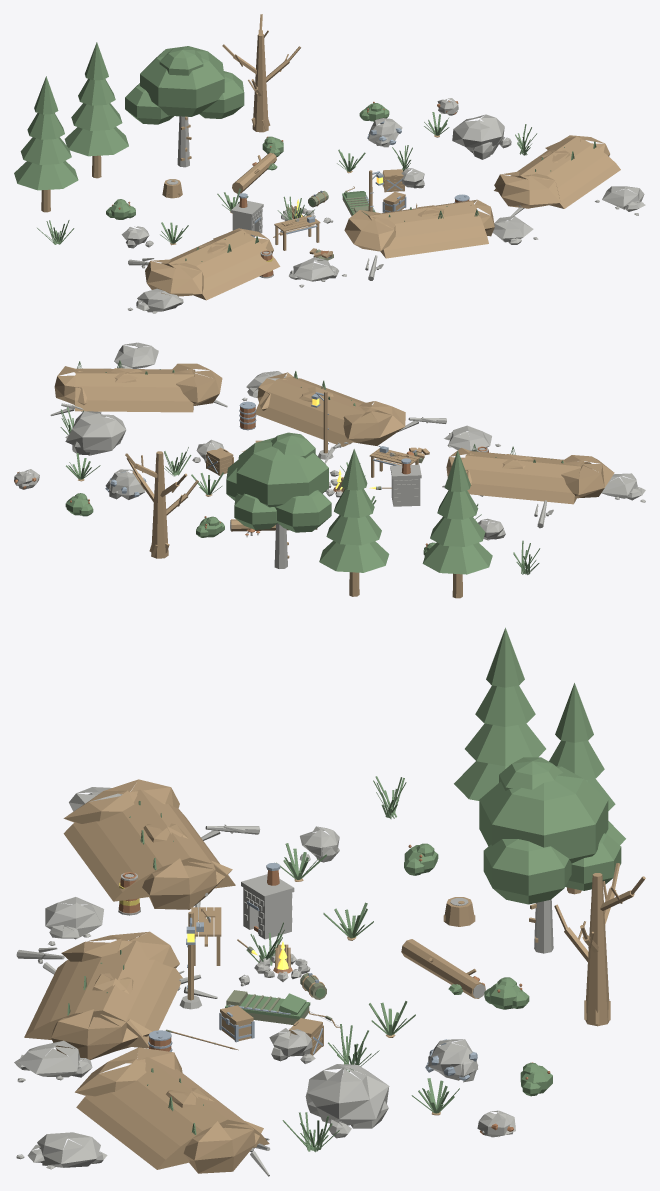
File: shoreline-gathering-run.glb
The picture shows the model from 3 angles, top to bottom: view 1: azimuth 30°, elevation 25°; view 2: azimuth 150°, elevation 25°; view 3: azimuth 270°, elevation 25°; orthographic projection. The views are drawn at different scales.
Visible parts, largest first — view 1: 017-birch-tree/2, 001-sand-dune-bank/0, 000-sand-dune-bank/0, 002-sand-dune-bank/0, 015-pine-tree/1, 016-pine-tree/1, 018-dead-tree/0, 014-boulder/0, 003-shoreline-rock/0, 006-shoreline-rock/0, 005-shoreline-rock/0, 036-stone-furnace/0 (+7 smaller); view 2: 017-birch-tree/2, 002-sand-dune-bank/0, 001-sand-dune-bank/0, 000-sand-dune-bank/0, 015-pine-tree/1, 016-pine-tree/1, 018-dead-tree/0, 014-boulder/0, 036-stone-furnace/0, 006-shoreline-rock/0, 003-shoreline-rock/0, 005-shoreline-rock/0 (+8 smaller); view 3: 017-birch-tree/2, 002-sand-dune-bank/0, 000-sand-dune-bank/0, 001-sand-dune-bank/0, 015-pine-tree/1, 014-boulder/0, 018-dead-tree/0, 016-pine-tree/1, 036-stone-furnace/0, 006-shoreline-rock/0, 004-shoreline-rock/0, 003-shoreline-rock/0 (+12 smaller).
Part boxes in pixels (box(x1,y1,x2,y2)): 017-birch-tree/2: box(125, 46, 244, 124); 001-sand-dune-bank/0: box(344, 199, 494, 258); 000-sand-dune-bank/0: box(145, 228, 280, 300); 002-sand-dune-bank/0: box(494, 135, 620, 208); 015-pine-tree/1: box(14, 76, 78, 190); 016-pine-tree/1: box(64, 42, 128, 156); 018-dead-tree/0: box(222, 14, 300, 132); 014-boulder/0: box(452, 114, 511, 159); 003-shoreline-rock/0: box(289, 257, 346, 287); 006-shoreline-rock/0: box(595, 186, 645, 215); 005-shoreline-rock/0: box(128, 288, 183, 313); 036-stone-furnace/0: box(231, 200, 263, 237); 017-birch-tree/2: box(226, 432, 331, 532); 002-sand-dune-bank/0: box(54, 363, 222, 412); 001-sand-dune-bank/0: box(255, 372, 405, 446); 000-sand-dune-bank/0: box(446, 448, 614, 504); 015-pine-tree/1: box(422, 450, 492, 574); 016-pine-tree/1: box(319, 449, 389, 572); 018-dead-tree/0: box(125, 451, 198, 558); 014-boulder/0: box(65, 411, 126, 455); 036-stone-furnace/0: box(390, 464, 421, 506); 006-shoreline-rock/0: box(114, 342, 158, 368); 003-shoreline-rock/0: box(444, 425, 500, 451); 005-shoreline-rock/0: box(601, 473, 645, 502); 017-birch-tree/2: box(479, 757, 621, 904); 002-sand-dune-bank/0: box(75, 1047, 269, 1173); 000-sand-dune-bank/0: box(63, 779, 235, 909); 001-sand-dune-bank/0: box(24, 931, 182, 1059); 015-pine-tree/1: box(454, 627, 545, 800); 014-boulder/0: box(305, 1064, 389, 1138); 018-dead-tree/0: box(554, 863, 645, 1026); 016-pine-tree/1: box(549, 683, 625, 844); 036-stone-furnace/0: box(241, 874, 294, 939); 006-shoreline-rock/0: box(16, 1132, 107, 1169); 004-shoreline-rock/0: box(14, 1040, 92, 1082); 003-shoreline-rock/0: box(45, 897, 103, 945).
Size of the model in its own units: 23.75 by 6 by 16.47.
